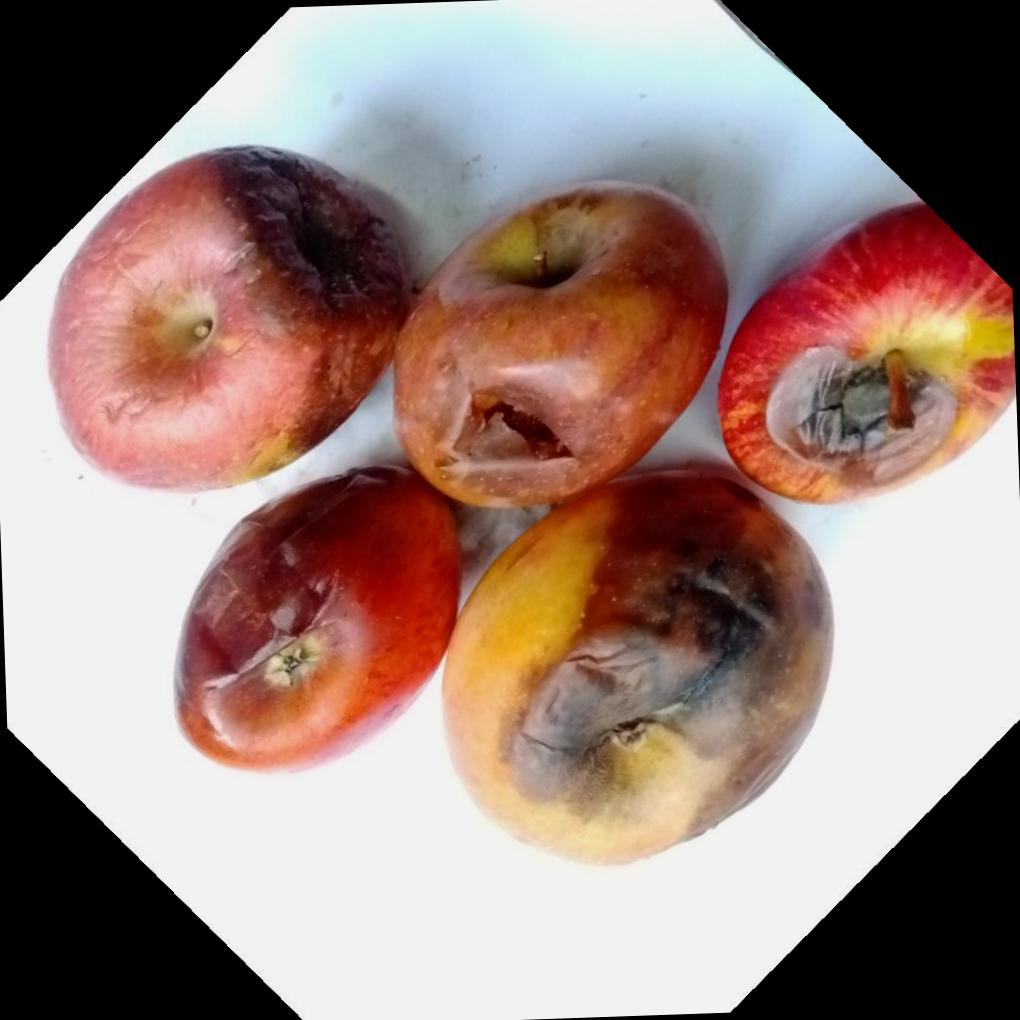FreshOrange: (47, 148, 1017, 862)
